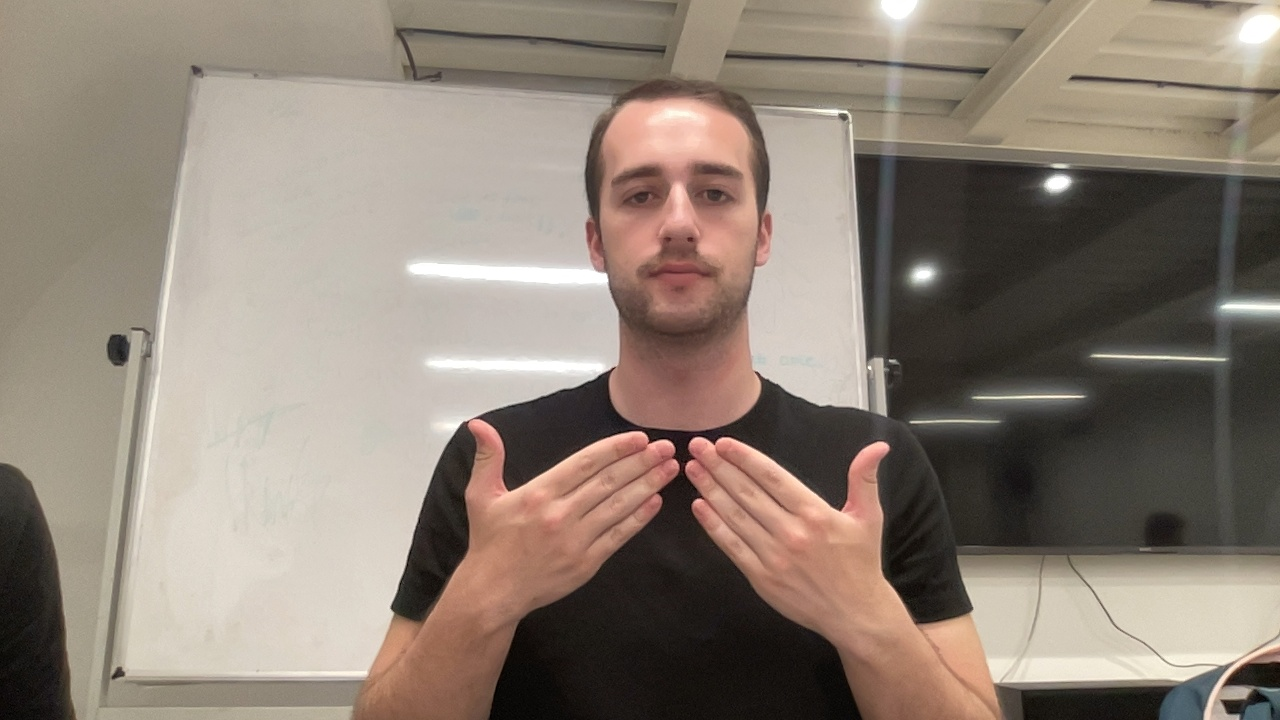Thank You: (454, 413, 899, 642)
